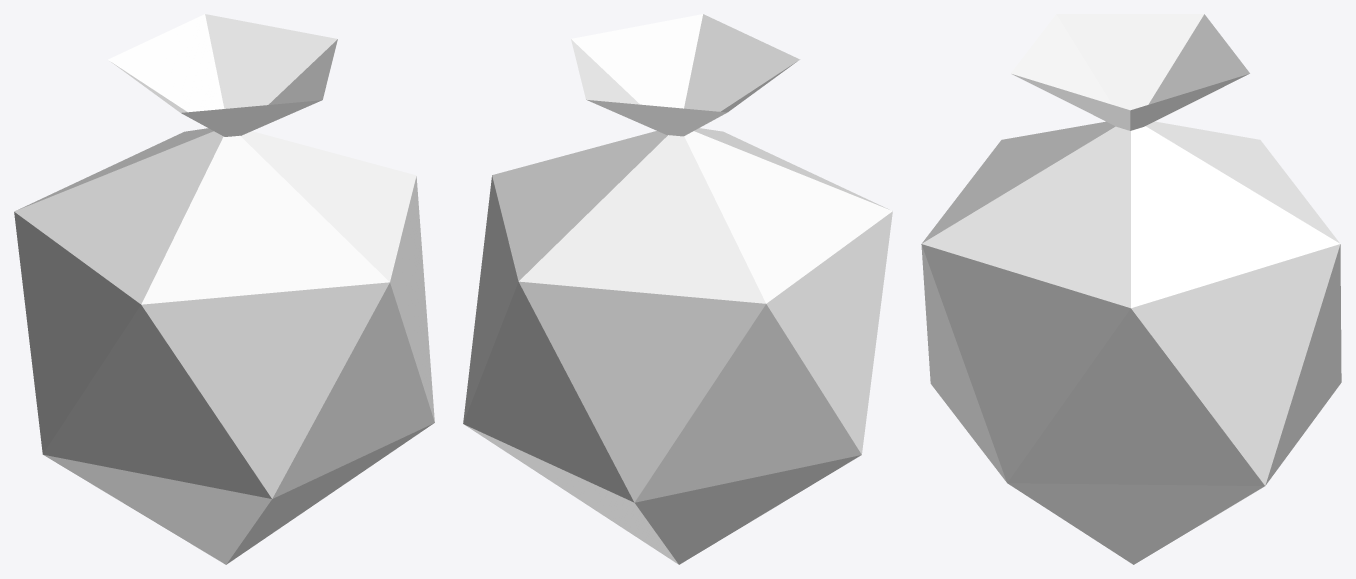
Rendered from trashBag02.glb.
The picture shows the model from 3 angles, left to right: view 1: azimuth 30°, elevation 25°; view 2: azimuth 150°, elevation 25°; view 3: azimuth 270°, elevation 25°; orthographic projection. The views are drawn at different scales.
Parts seen in each view (by area): view 1: trashbag_02; view 2: trashbag_02; view 3: trashbag_02.
Part boxes in pixels (left/top/right/bottom): trashbag_02: left=14, top=14, right=434, bottom=564; trashbag_02: left=463, top=14, right=892, bottom=564; trashbag_02: left=921, top=14, right=1341, bottom=564.
Size of the model in its own units: 0.5742 by 0.7366 by 0.5506.
Materials: 1 (1 with a texture image).
